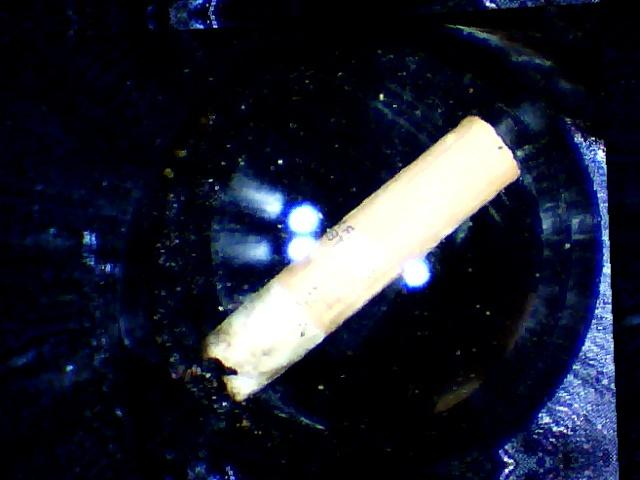megot: (184, 100, 532, 413)
